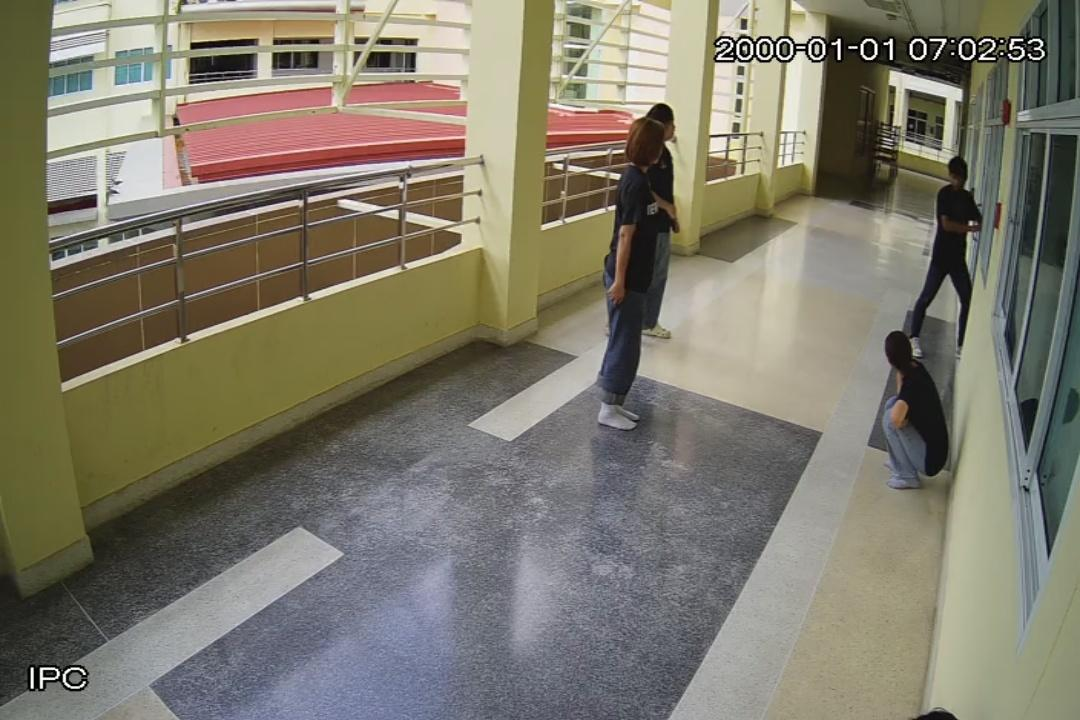normal: (594, 118, 665, 436), (603, 104, 682, 340), (916, 157, 983, 353), (886, 330, 952, 495)
